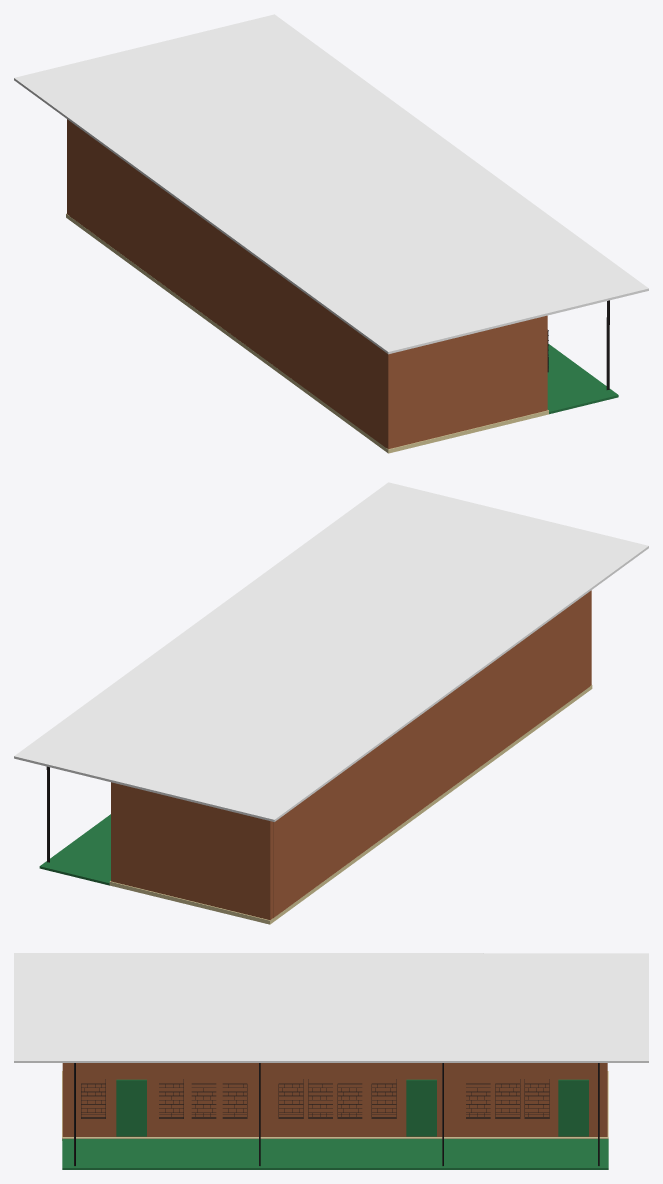
Rendered from Elementary Extension.fbx.
The picture shows the model from 3 angles, top to bottom: view 1: azimuth 30°, elevation 25°; view 2: azimuth 150°, elevation 25°; view 3: azimuth 270°, elevation 25°; orthographic projection. The views are drawn at different scales.
Visible parts, largest first — view 1: Cube.461; view 2: Cube.461; view 3: Cube.461.
Part boxes in pixels (x1,y1,x2,y2): Cube.461: (14,14,648,453); Cube.461: (14,482,648,924); Cube.461: (14,953,648,1169).
Size of the model in its own units: 325 by 154 by 808.
